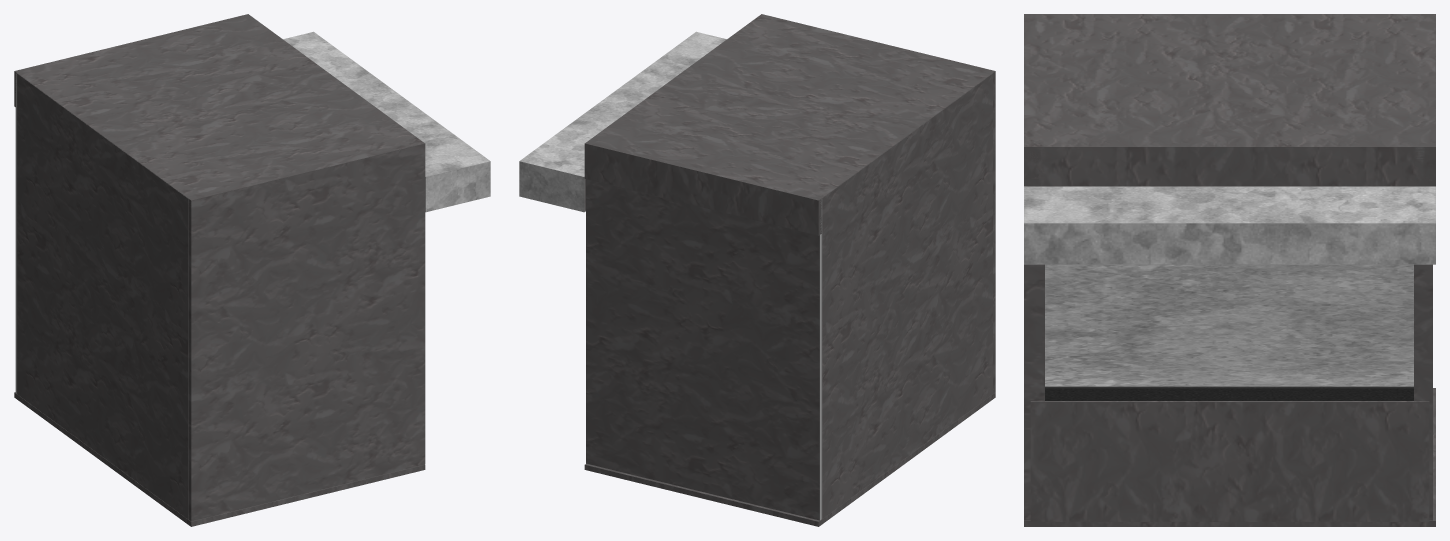
File: closedbooth.fbx
3 views of the same model, side by side, from view 1: azimuth 30°, elevation 25°; view 2: azimuth 150°, elevation 25°; view 3: azimuth 270°, elevation 25° (orthographic). The views are drawn at different scales.
Visible parts, largest first — view 1: pCube4527; view 2: pCube4527; view 3: pCube4527.
Boxes of the visible parts, <box> form: pCube4527: <box>14,14,490,526</box>; pCube4527: <box>519,14,995,526</box>; pCube4527: <box>1024,14,1435,526</box>.
Bounding box in the file's own units: 4.82 × 5.01 × 4.93.
2 materials, 2 textured.
